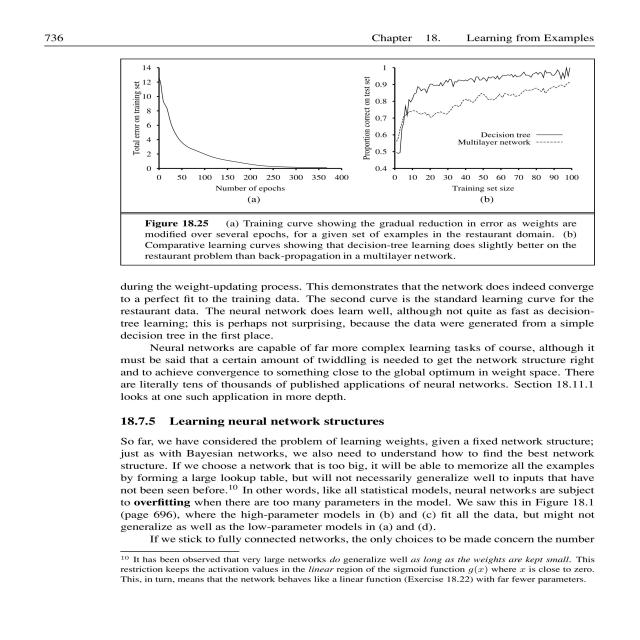diagram: (124, 56, 602, 268)
